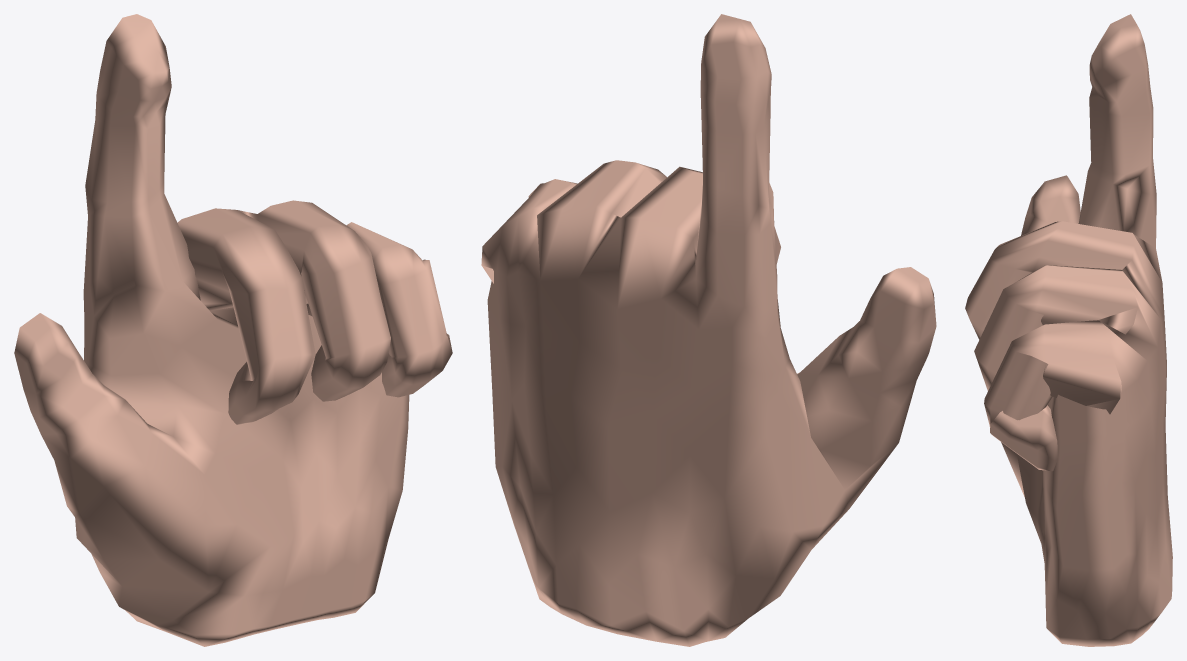
Rendered from MAO_REVOLVER.obj.
3 views of the same model, side by side, from view 1: azimuth 30°, elevation 25°; view 2: azimuth 150°, elevation 25°; view 3: azimuth 270°, elevation 25° (orthographic). The views are drawn at different scales.
Parts seen in each view (by area): view 1: mao_dir polySurface1; view 2: mao_dir polySurface1; view 3: mao_dir polySurface1.
Boxes of the visible parts, box(x1,y1,x2,y2) form: mao_dir polySurface1: box(14, 14, 452, 646); mao_dir polySurface1: box(481, 14, 936, 646); mao_dir polySurface1: box(965, 14, 1172, 646).
Size of the model in its own units: 156 by 227 by 78.23.
